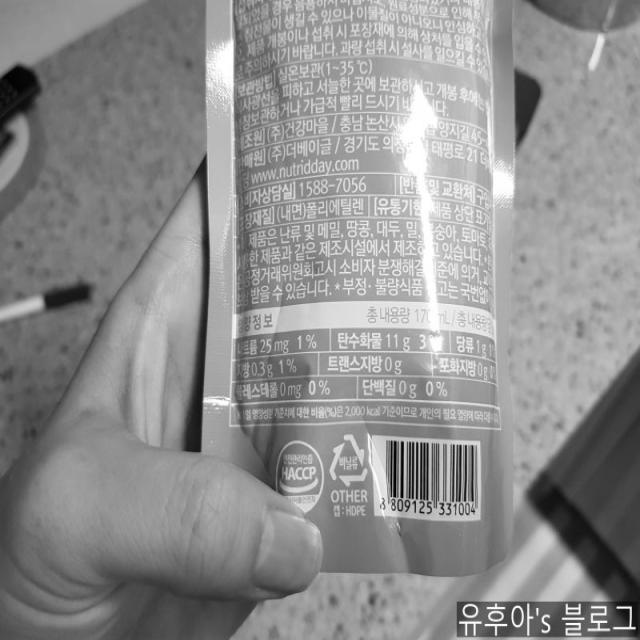Nutrition Label: (214, 301, 534, 439)
